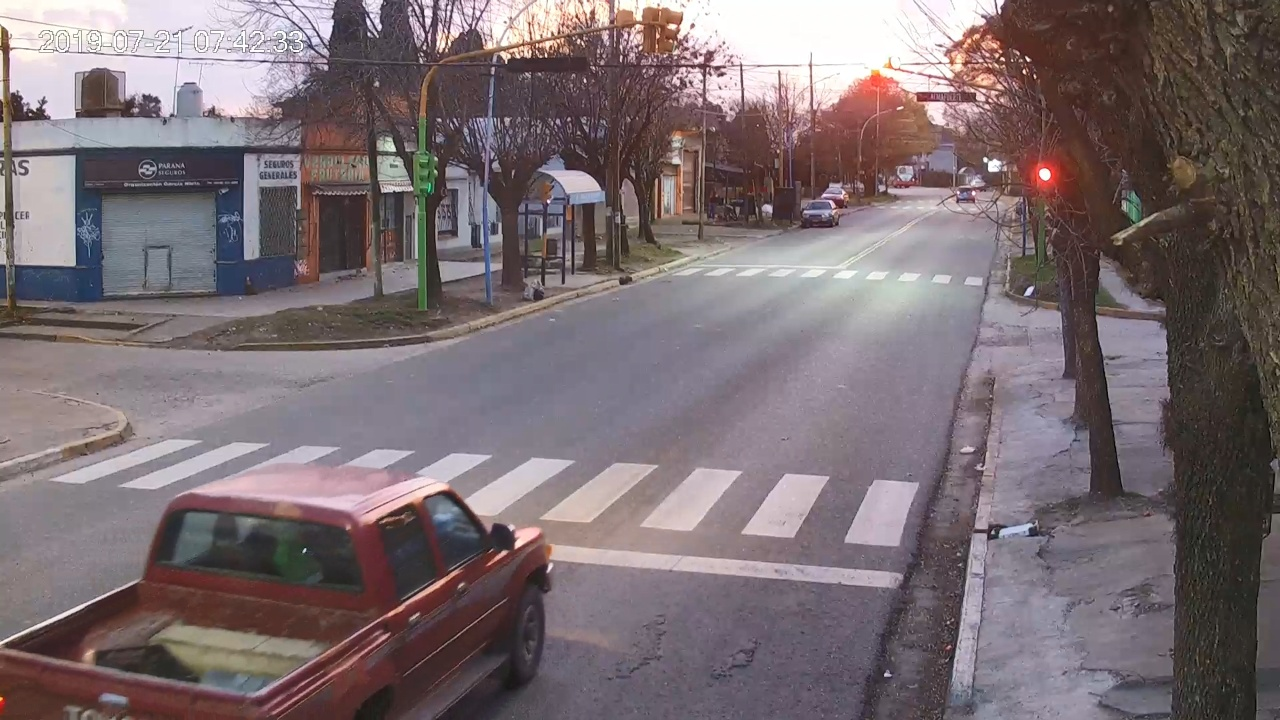car: (1, 476, 554, 720)
